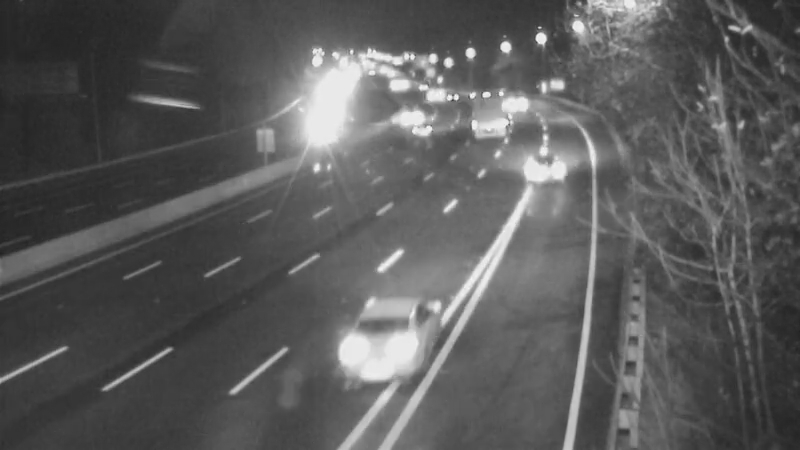vehicle: (337, 297, 447, 407), (503, 123, 583, 203), (409, 68, 459, 118), (489, 78, 539, 128), (468, 88, 518, 138), (402, 105, 452, 155), (381, 87, 431, 137), (298, 102, 348, 152)
